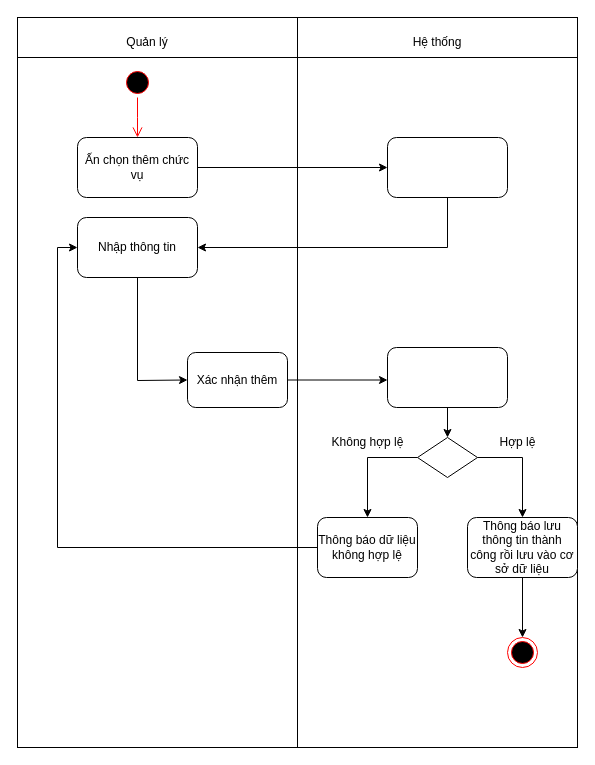
Image size: 595x765. Some labels were removed from this diagram. The shapes that lost their labels are listed below. From the top down, each one's centre as x and y in pixels, then its label:
pixel 447 167: Hiển thị form thêm chức vụ
pixel 447 377: Kiểm tra thông tin đầu vào
